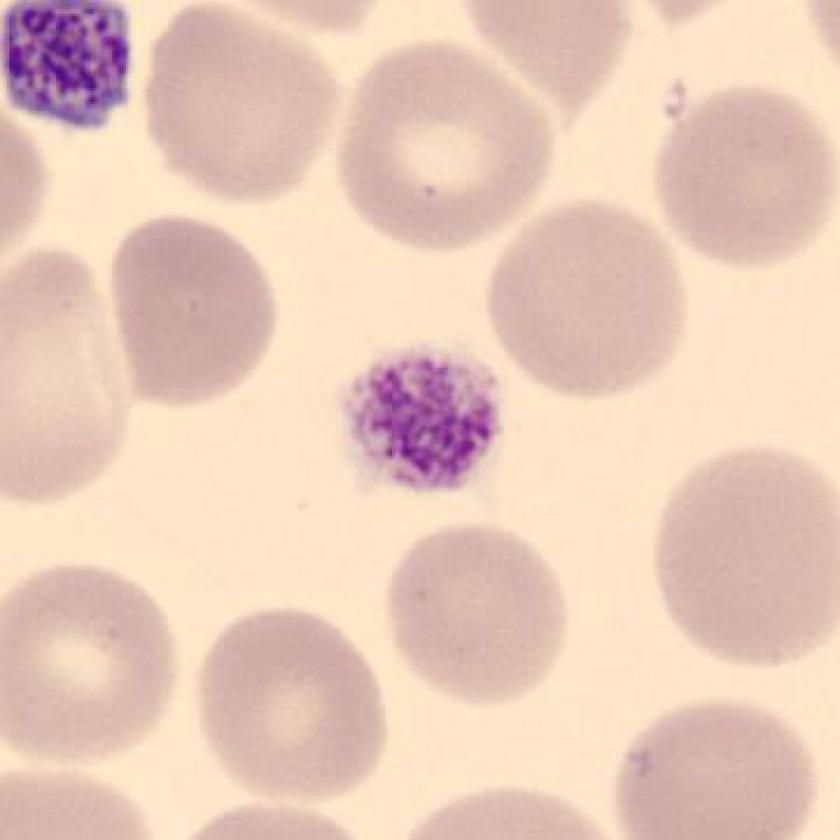platelets: (326, 325, 529, 508), (1, 1, 157, 149)
